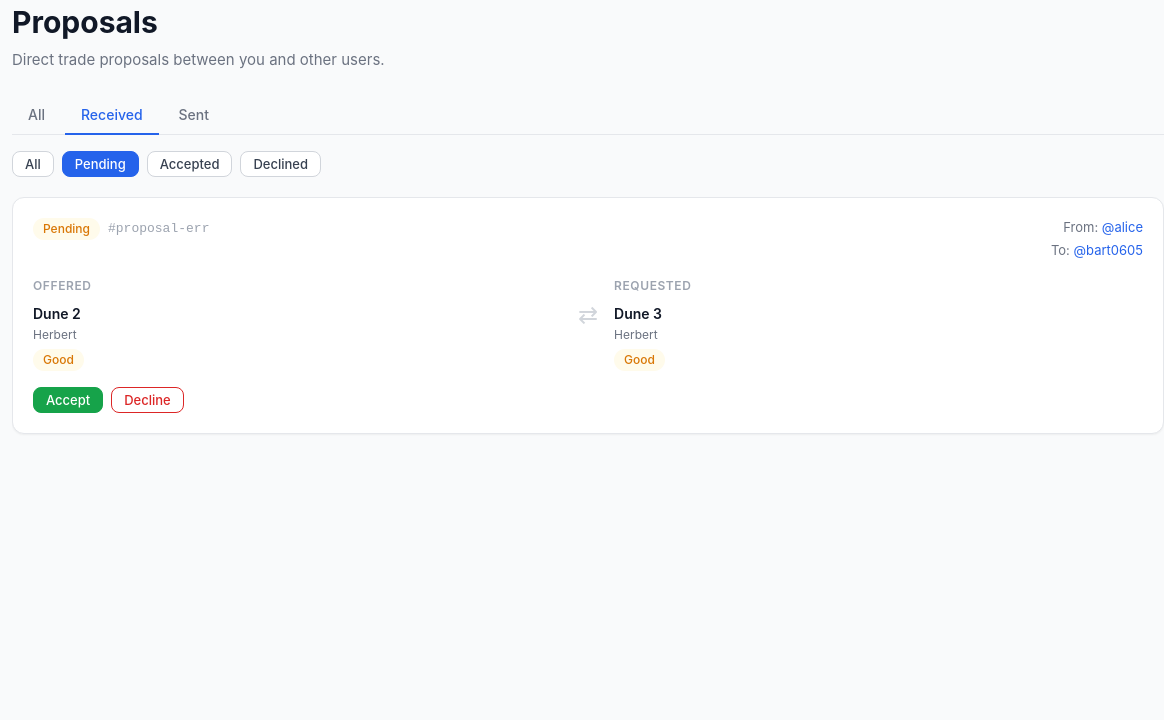
Test: Proposals page › shows action error when accept fails
Step 1. Click the button "Accept" → x=68, y=400, box [33,387,103,413]
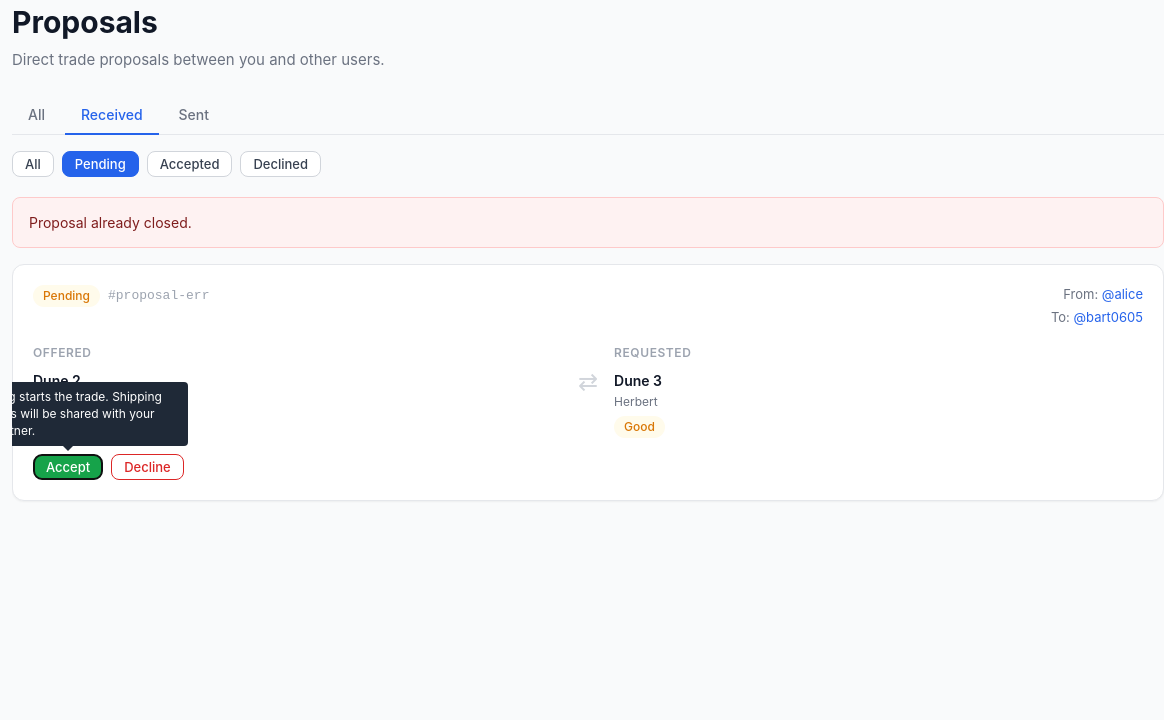
Expected: the text "Proposal already closed." is shown, [12,197,1163,248]
